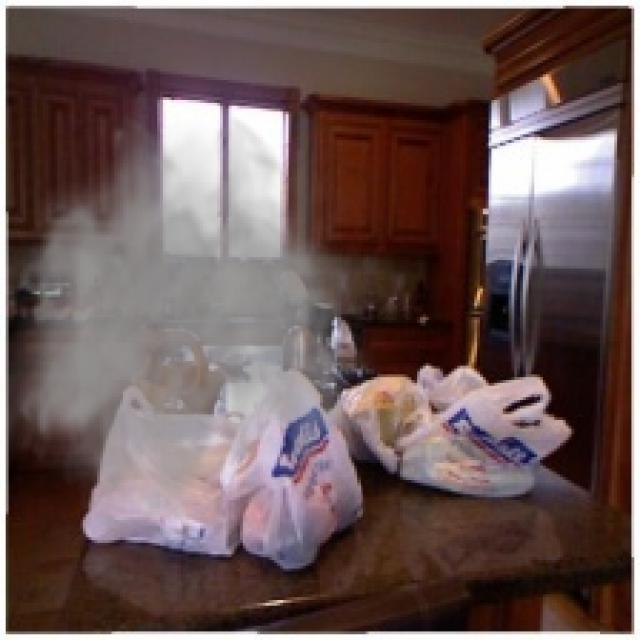Smoke: (6, 111, 380, 528)
